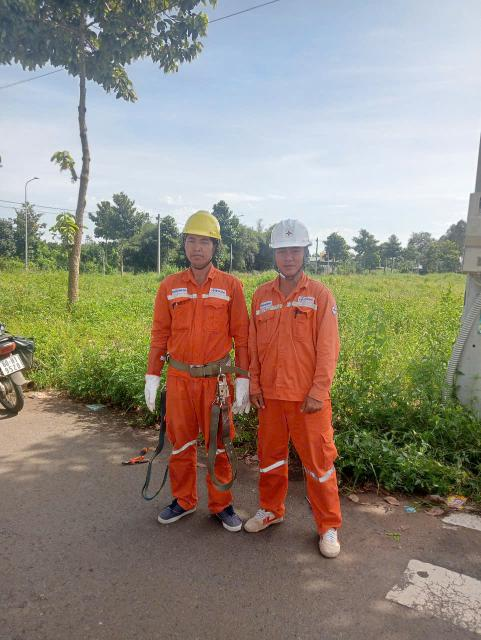harness: (155, 343, 244, 387)
helmet: (250, 207, 325, 261), (179, 204, 226, 254)
shoes: (292, 517, 349, 568), (150, 484, 200, 534), (237, 495, 288, 539), (201, 496, 245, 540)
